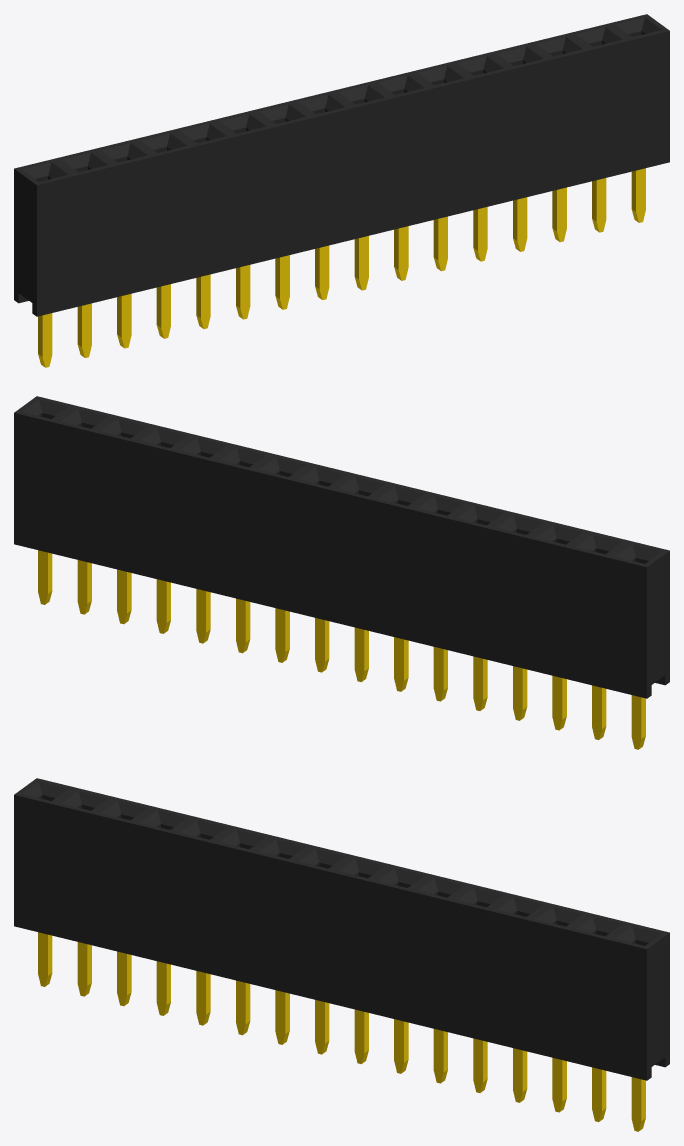
Rendered from PBS2-16.glb.
3 renders of one model, top to bottom at view 1: azimuth 30°, elevation 25°; view 2: azimuth 150°, elevation 25°; view 3: azimuth 330°, elevation 25°, orthographic.
Parts seen in each view (by area): view 1: PBS2 (DS1026-20 CONNFLY); view 2: PBS2 (DS1026-20 CONNFLY); view 3: PBS2 (DS1026-20 CONNFLY).
Boxes of the visible parts, x1=… form: PBS2 (DS1026-20 CONNFLY): x1=14, y1=14, x2=669, y2=367; PBS2 (DS1026-20 CONNFLY): x1=14, y1=396, x2=669, y2=749; PBS2 (DS1026-20 CONNFLY): x1=14, y1=778, x2=669, y2=1131.
Size of the model in its own units: 0.032 by 0.00935 by 0.002.
